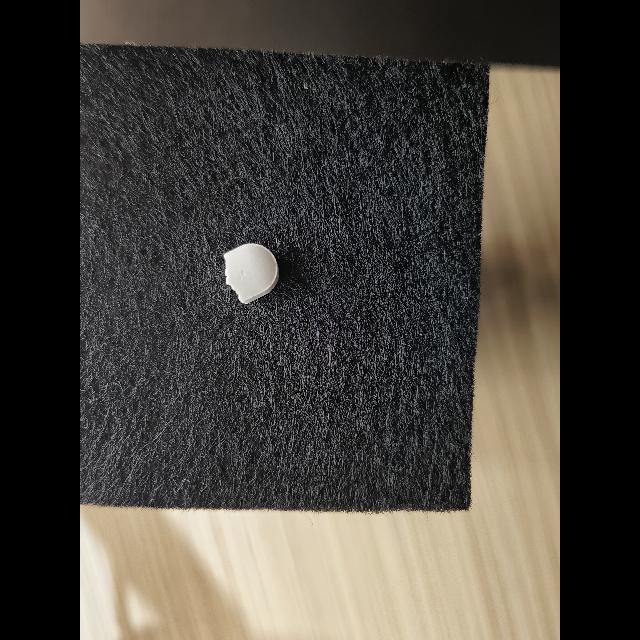Chipped Pill: (224, 243, 279, 304)
